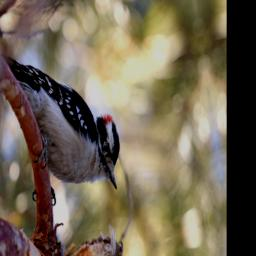Woodpecker: (1, 15, 125, 229)
